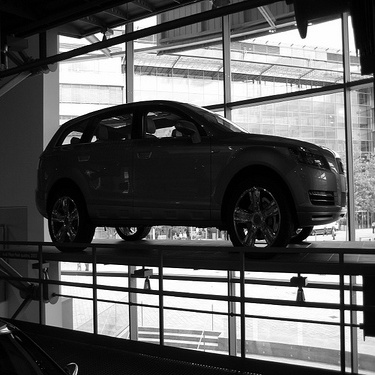car: (20, 89, 354, 255)
